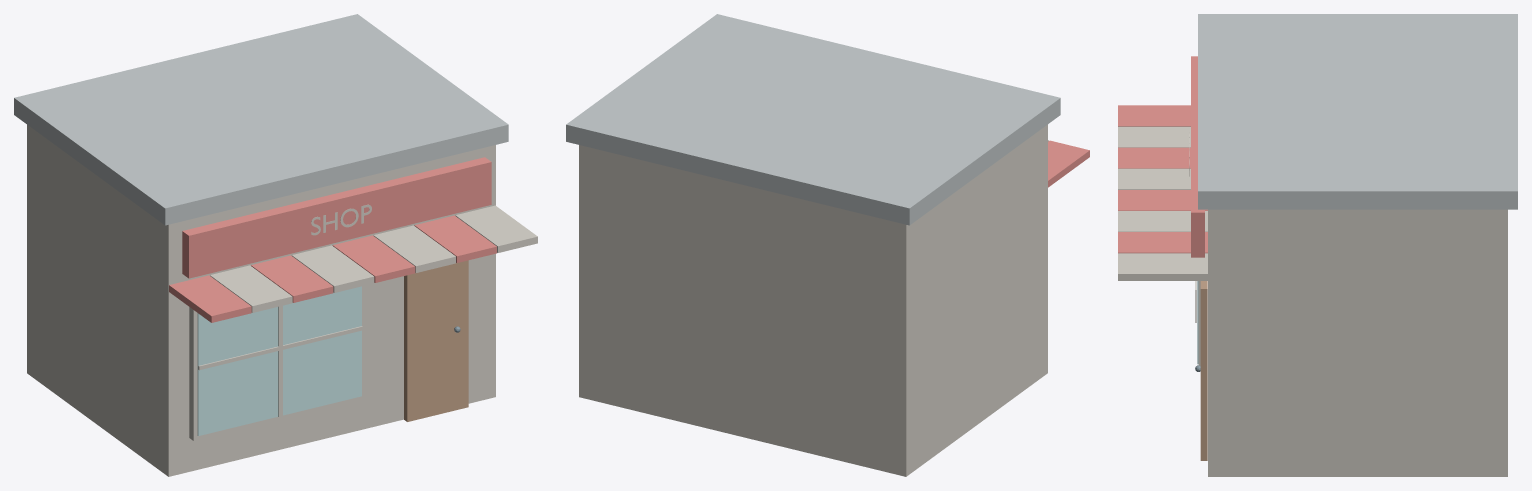
Rendered from corner_shop.glb.
The picture shows the model from 3 angles, left to right: view 1: azimuth 30°, elevation 25°; view 2: azimuth 150°, elevation 25°; view 3: azimuth 270°, elevation 25°; orthographic projection. The views are drawn at different scales.
Visible parts, largest first — view 1: corner_shop_001, corner_shop_000, corner_shop_005, corner_shop_008, corner_shop_002, corner_shop_004, corner_shop_010, corner_shop_011, corner_shop_014, corner_shop_012, corner_shop_013, corner_shop_016 (+4 smaller); view 2: corner_shop_000, corner_shop_001, corner_shop_010; view 3: corner_shop_000, corner_shop_001, corner_shop_017, corner_shop_008, corner_shop_016, corner_shop_010, corner_shop_011, corner_shop_012, corner_shop_013, corner_shop_015, corner_shop_014, corner_shop_002.
Boxes of the visible parts, box(x1,y1,x2,y2) form: corner_shop_001: box(14, 14, 508, 225); corner_shop_000: box(27, 124, 495, 476); corner_shop_005: box(197, 286, 361, 435); corner_shop_008: box(182, 157, 491, 278); corner_shop_002: box(404, 260, 468, 421); corner_shop_004: box(189, 285, 365, 440); corner_shop_010: box(169, 275, 251, 322); corner_shop_011: box(210, 265, 292, 312); corner_shop_014: box(332, 235, 415, 282); corner_shop_012: box(251, 255, 333, 302); corner_shop_013: box(291, 245, 374, 292); corner_shop_016: box(414, 215, 496, 262); corner_shop_000: box(579, 124, 1047, 476); corner_shop_001: box(566, 14, 1060, 225); corner_shop_010: box(1048, 140, 1089, 187); corner_shop_000: box(1208, 209, 1507, 476); corner_shop_001: box(1198, 14, 1517, 209); corner_shop_017: box(1118, 253, 1207, 280); corner_shop_008: box(1191, 56, 1204, 257); corner_shop_016: box(1118, 232, 1207, 253); corner_shop_010: box(1118, 105, 1190, 126); corner_shop_011: box(1118, 126, 1190, 147); corner_shop_012: box(1118, 147, 1190, 168); corner_shop_013: box(1118, 168, 1190, 189); corner_shop_015: box(1118, 211, 1207, 231); corner_shop_014: box(1118, 190, 1207, 210); corner_shop_002: box(1200, 281, 1207, 460).
Bounding box in the file's own units: 4.2 × 3.2 × 4.
